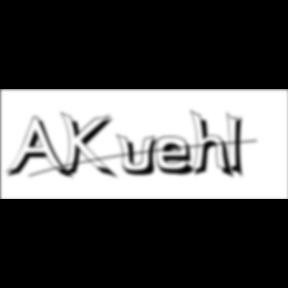A: (6, 116, 74, 182)
I: (227, 110, 251, 182)
K: (60, 110, 120, 182)
e: (156, 135, 202, 178)
h: (190, 108, 238, 182)
u: (116, 132, 164, 178)
